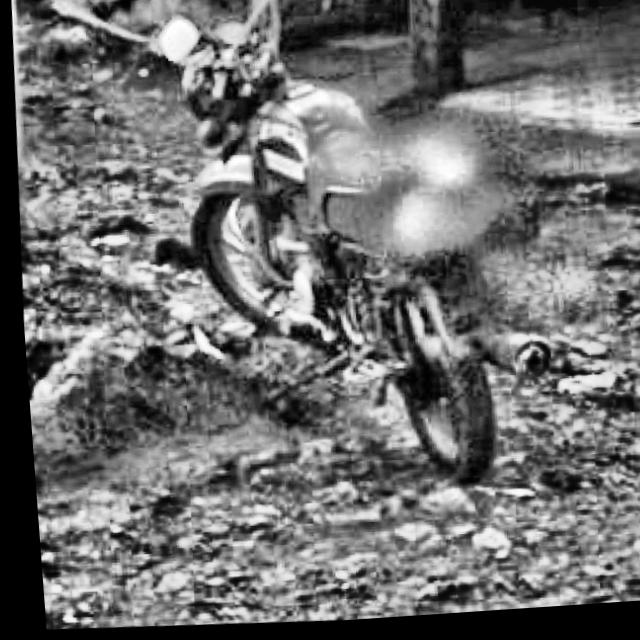motorcycle: (137, 0, 563, 518)
